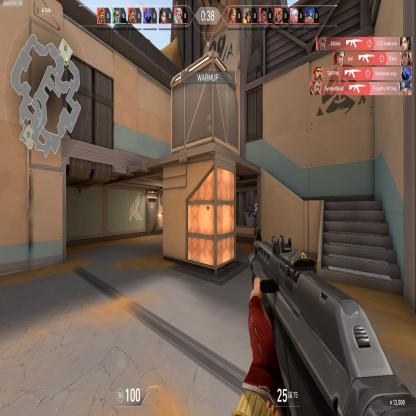enemy: (250, 201, 257, 226)
